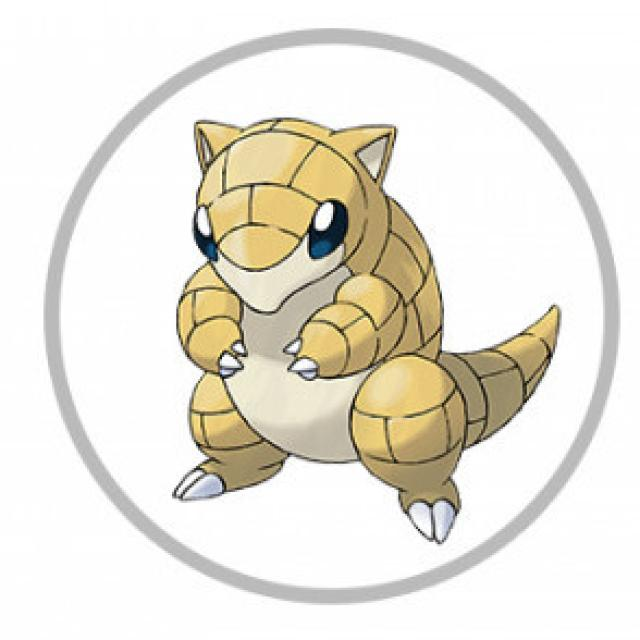Sandshrew: (168, 115, 525, 508)
